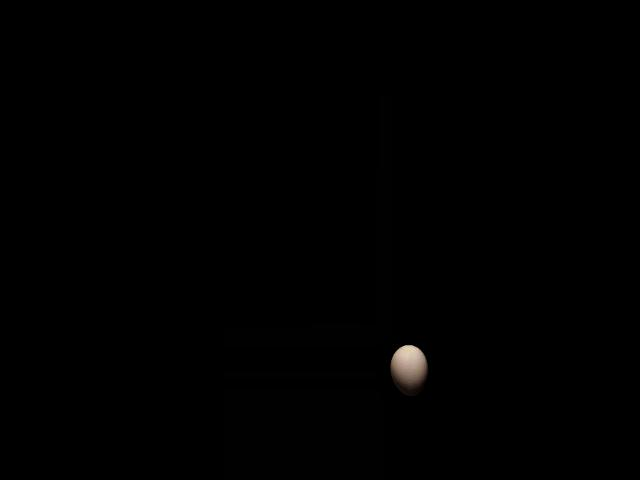egg: (390, 344, 428, 395)
